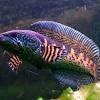Snakehead: (0, 18, 100, 83)
